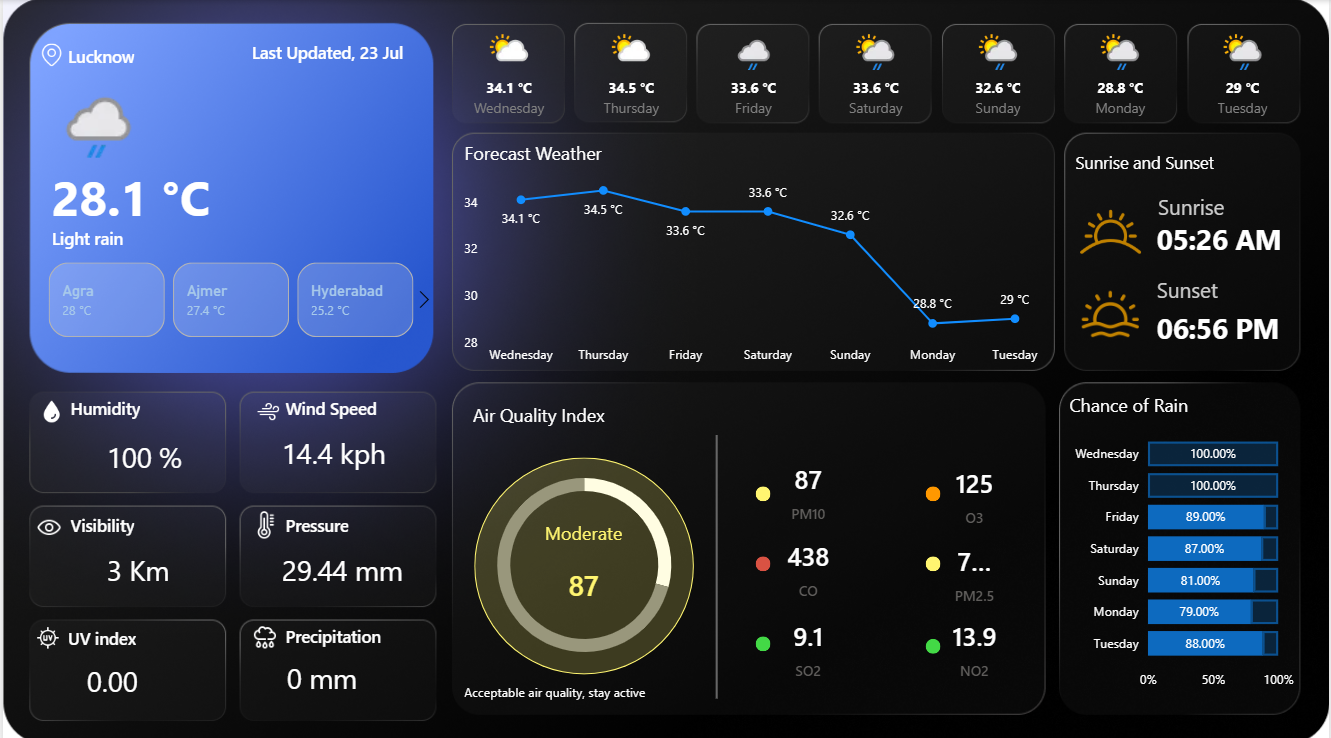

The dashboard page shown, as its layout file describes it:
{"tool":"powerbi","page":{"name":"Page 1","canvas":[1280,720],"ordinal":0},"visuals":[{"type":"donutChart","fields":{"Y":["Sum(Current.current.air_quality.pm10)","_Measures.Left_Value_PM10"]},"box":[445.3,436,232,220],"z":0},{"type":"shape","box":[454.7,441.3,212,209.3],"z":1000},{"type":"advancedSlicerVisual","fields":{"Values":["Locations.location.name"]},"box":[19.5,249,402.1,82.1],"z":2000},{"type":"shape","box":[47.3,148.6,173,81.1],"z":3000},{"type":"shape","box":[47.3,210.8,250,37.8],"z":4000},{"type":"shape","box":[240.5,31.1,155.4,37.8],"z":5000},{"type":"shape","box":[62.2,35.1,158.1,37.8],"z":6000},{"type":"image","box":[31.1,37.8,31.1,31.1],"z":7000},{"type":"cardVisual","fields":{"Data":["Min(Current.current.condition.icon)"]},"box":[31.1,54.1,121.6,114.9],"z":8000},{"type":"image","box":[29.7,381.1,33.8,32.4],"z":9000},{"type":"image","box":[240.5,381.1,32.4,32.4],"z":10000},{"type":"image","box":[233.8,489.2,39.2,36.5],"z":11000},{"type":"image","box":[24.3,490.5,40.5,36.5],"z":12000},{"type":"image","box":[27,600,33.8,32.4],"z":13000},{"type":"image","box":[231.1,597.3,41.9,36.5],"z":14000},{"type":"shape","box":[64.9,375.7,155.4,37.8],"z":15000},{"type":"shape","box":[273,375.7,155.4,37.8],"z":16000},{"type":"shape","box":[273,487.8,155.4,37.8],"z":17000},{"type":"shape","box":[64.9,487.8,155.4,37.8],"z":18000},{"type":"shape","box":[62.2,597.3,155.4,37.8],"z":19000},{"type":"shape","box":[273,594.6,155.4,37.8],"z":20000},{"type":"cardVisual","fields":{"Data":["_Measures.Humidity"]},"box":[83.7,397.5,123.1,75.1],"z":21000},{"type":"cardVisual","fields":{"Data":["_Measures.Wind_Speed"]},"box":[252.3,395.1,145.2,75.1],"z":22000},{"type":"cardVisual","fields":{"Data":["_Measures.Pressure"]},"box":[252.3,507.1,155.1,75.1],"z":23000},{"type":"cardVisual","fields":{"Data":["_Measures.Visibility"]},"box":[83.7,507.1,131.7,75.1],"z":24000},{"type":"cardVisual","fields":{"Data":["_Measures.precipitation"]},"box":[257.2,611.7,145.2,76.3],"z":25000},{"type":"cardVisual","fields":{"Data":["Sum(Current.current.uv)"]},"box":[63.5,613.5,124.3,75.7],"z":26000},{"type":"advancedSlicerVisual","fields":{"Values":["forecast_day.Day_Name"]},"box":[428.3,20,833.3,105],"z":27000},{"type":"lineChart","title":"Forecast Weather","fields":{"Y":["Sum(forecast_day.forecast.forecastday.day.avgtemp_c)"],"Category":["forecast_day.Day_Name"]},"box":[440,136,573.3,224],"z":28000},{"type":"shape","box":[1034.7,136,156,38.7],"z":29000},{"type":"shape","box":[1113.3,205.3,148,49.3],"z":30000},{"type":"shape","box":[1113.3,290.7,148,49.3],"z":31000},{"type":"shape","box":[1114.7,174.7,148,49.3],"z":32000},{"type":"shape","box":[1113.3,254.7,148,49.3],"z":33000},{"type":"image","box":[1024,180,89.3,88],"z":34000},{"type":"image","box":[1036,266.7,65.3,73.3],"z":35000},{"type":"hundredPercentStackedBarChart","title":"Chance of Rain","fields":{"Y":["Sum(forecast_day.forecast.forecastday.day.daily_chance_of_rain)","_Measures.Left_Value_Rain"],"Category":["forecast_day.Day_Name"]},"box":[1024,378.7,226.7,296],"z":36000},{"type":"shape","box":[454.2,381.5,156.3,38.2],"z":37000},{"type":"cardVisual","fields":{"Data":["Sum(Current.current.air_quality.o3)"]},"box":[897.3,433.3,80,77.3],"z":38000},{"type":"cardVisual","fields":{"Data":["Sum(Current.current.air_quality.pm2_5)"]},"box":[897.3,509.3,80,77.3],"z":39000},{"type":"cardVisual","fields":{"Data":["Sum(Current.current.air_quality.pm10)"]},"box":[737.3,429.3,80,77.3],"z":40000},{"type":"cardVisual","fields":{"Data":["Sum(Current.current.air_quality.co)"]},"box":[737.3,504,80,77.3],"z":41000},{"type":"cardVisual","fields":{"Data":["Sum(Current.current.air_quality.so2)"]},"box":[737.3,581.3,80,77.3],"z":42000},{"type":"cardVisual","fields":{"Data":["Sum(Current.current.air_quality.no2)"]},"box":[897.3,581.3,80,77.3],"z":43000},{"type":"shape","box":[890.7,469.3,14.7,14.7],"z":44000},{"type":"shape","box":[726.7,469.3,14.7,14.7],"z":45000},{"type":"shape","box":[726.7,614.7,14.7,14.7],"z":46000},{"type":"shape","box":[890.7,616,14.7,14.7],"z":47000},{"type":"shape","box":[890.7,537.3,14.7,14.7],"z":48000},{"type":"shape","box":[726.7,537.3,14.7,14.7],"z":49000},{"type":"shape","box":[652,420,74.7,254.7],"z":50000},{"type":"cardVisual","fields":{"Data":["Sum(Current.current.air_quality.pm10)"]},"box":[510.7,502.7,100,92],"z":51000},{"type":"shape","box":[445.3,649.3,244,37.3],"z":51001}]}

Visuals, with their boxes in screenshot pixels (x1, y1, x2, y2), scaled from the page's 1280x720 canvas onto the 1331x738 screenshot:
donutChart - Sum(Current.current.air_quality.pm10) x _Measures.Left_Value_PM10: x1=463 y1=447 x2=704 y2=672
shape: x1=473 y1=452 x2=693 y2=667
advancedSlicerVisual - Locations.location.name: x1=20 y1=255 x2=438 y2=339
shape: x1=49 y1=152 x2=229 y2=235
shape: x1=49 y1=216 x2=309 y2=255
shape: x1=250 y1=32 x2=412 y2=71
shape: x1=65 y1=36 x2=229 y2=75
image: x1=32 y1=39 x2=65 y2=71
cardVisual - Min(Current.current.condition.icon): x1=32 y1=55 x2=159 y2=173
image: x1=31 y1=391 x2=66 y2=424
image: x1=250 y1=391 x2=284 y2=424
image: x1=243 y1=501 x2=284 y2=539
image: x1=25 y1=503 x2=67 y2=540
image: x1=28 y1=615 x2=63 y2=648
image: x1=240 y1=612 x2=284 y2=650
shape: x1=67 y1=385 x2=229 y2=424
shape: x1=284 y1=385 x2=445 y2=424
shape: x1=284 y1=500 x2=445 y2=539
shape: x1=67 y1=500 x2=229 y2=539
shape: x1=65 y1=612 x2=226 y2=651
shape: x1=284 y1=609 x2=445 y2=648
cardVisual - _Measures.Humidity: x1=87 y1=407 x2=215 y2=484
cardVisual - _Measures.Wind_Speed: x1=262 y1=405 x2=413 y2=482
cardVisual - _Measures.Pressure: x1=262 y1=520 x2=424 y2=597
cardVisual - _Measures.Visibility: x1=87 y1=520 x2=224 y2=597
cardVisual - _Measures.precipitation: x1=267 y1=627 x2=418 y2=705
cardVisual - Sum(Current.current.uv): x1=66 y1=629 x2=195 y2=706
advancedSlicerVisual - forecast_day.Day_Name: x1=445 y1=20 x2=1312 y2=128
"Forecast Weather" lineChart: x1=458 y1=139 x2=1054 y2=369
shape: x1=1076 y1=139 x2=1238 y2=179
shape: x1=1158 y1=210 x2=1312 y2=261
shape: x1=1158 y1=298 x2=1312 y2=348
shape: x1=1159 y1=179 x2=1313 y2=230
shape: x1=1158 y1=261 x2=1312 y2=312
image: x1=1065 y1=184 x2=1158 y2=275
image: x1=1077 y1=273 x2=1145 y2=348
"Chance of Rain" hundredPercentStackedBarChart: x1=1065 y1=388 x2=1301 y2=692
shape: x1=472 y1=391 x2=635 y2=430
cardVisual - Sum(Current.current.air_quality.o3): x1=933 y1=444 x2=1016 y2=523
cardVisual - Sum(Current.current.air_quality.pm2_5): x1=933 y1=522 x2=1016 y2=601
cardVisual - Sum(Current.current.air_quality.pm10): x1=767 y1=440 x2=850 y2=519
cardVisual - Sum(Current.current.air_quality.co): x1=767 y1=517 x2=850 y2=596
cardVisual - Sum(Current.current.air_quality.so2): x1=767 y1=596 x2=850 y2=675
cardVisual - Sum(Current.current.air_quality.no2): x1=933 y1=596 x2=1016 y2=675
shape: x1=926 y1=481 x2=941 y2=496
shape: x1=756 y1=481 x2=771 y2=496
shape: x1=756 y1=630 x2=771 y2=645
shape: x1=926 y1=631 x2=941 y2=646
shape: x1=926 y1=551 x2=941 y2=566
shape: x1=756 y1=551 x2=771 y2=566
shape: x1=678 y1=430 x2=756 y2=692
cardVisual - Sum(Current.current.air_quality.pm10): x1=531 y1=515 x2=635 y2=610
shape: x1=463 y1=666 x2=717 y2=704
